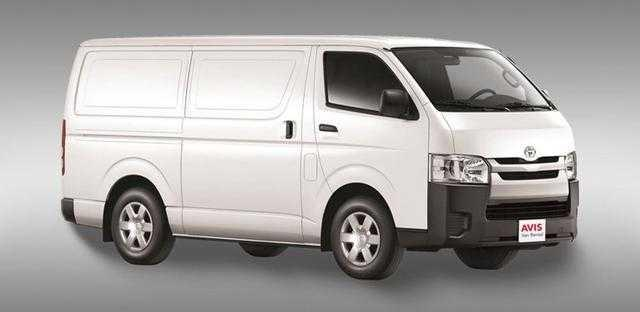car: (56, 32, 584, 281)
